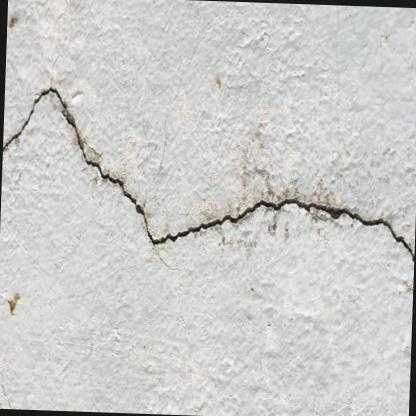crack: (2, 86, 415, 263)
